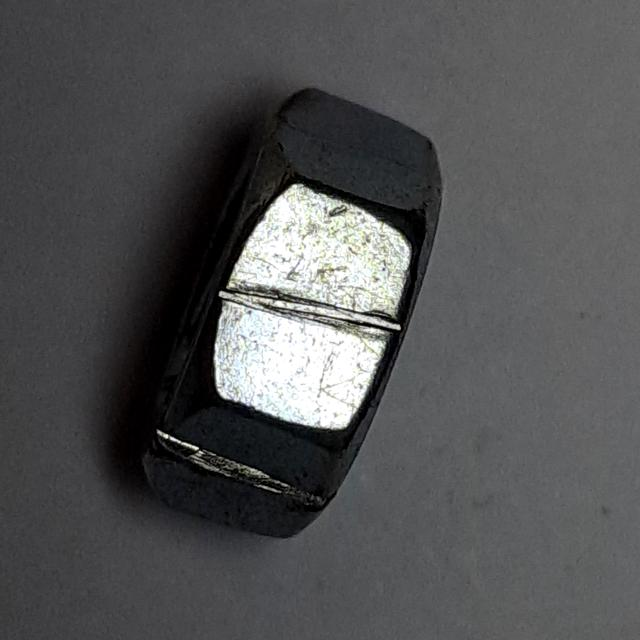Side_Scratches: (126, 75, 457, 552)
